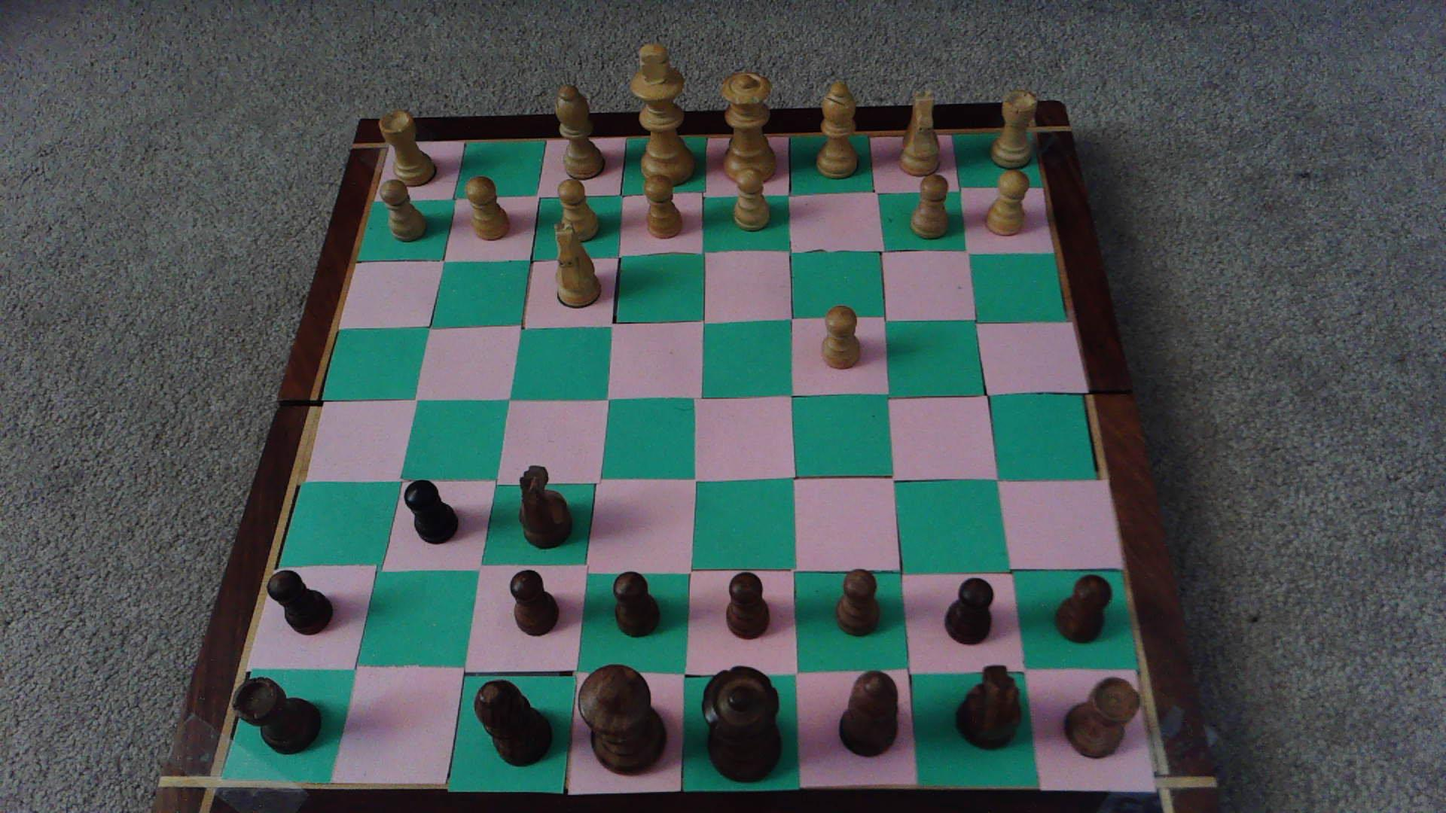dark_piece: (577, 665, 666, 774), (702, 666, 781, 782), (474, 680, 551, 766), (234, 678, 320, 753), (1065, 678, 1139, 757), (957, 665, 1020, 748), (839, 671, 897, 757), (520, 465, 572, 548), (267, 569, 332, 634), (1056, 574, 1112, 643), (403, 480, 457, 542), (944, 578, 993, 644), (510, 570, 558, 635), (612, 572, 660, 637), (836, 570, 880, 636), (726, 572, 769, 639)
white_piece: (629, 44, 697, 186), (721, 72, 774, 183), (556, 85, 604, 179), (380, 110, 435, 186), (554, 222, 601, 308), (816, 81, 857, 178), (897, 90, 940, 177), (990, 92, 1038, 169), (379, 177, 425, 241), (556, 178, 601, 242), (465, 176, 508, 239), (987, 169, 1028, 235), (911, 173, 948, 239), (733, 168, 772, 230), (644, 176, 682, 239), (822, 306, 859, 368)
